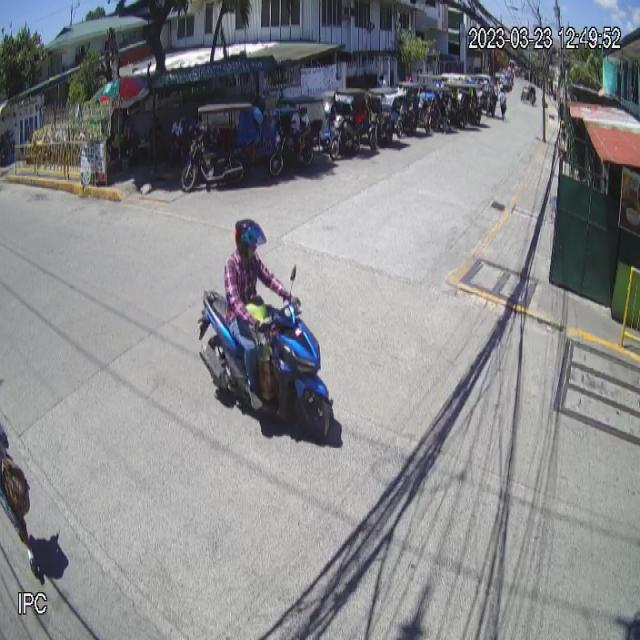Motorcycle: (195, 262, 335, 441)
